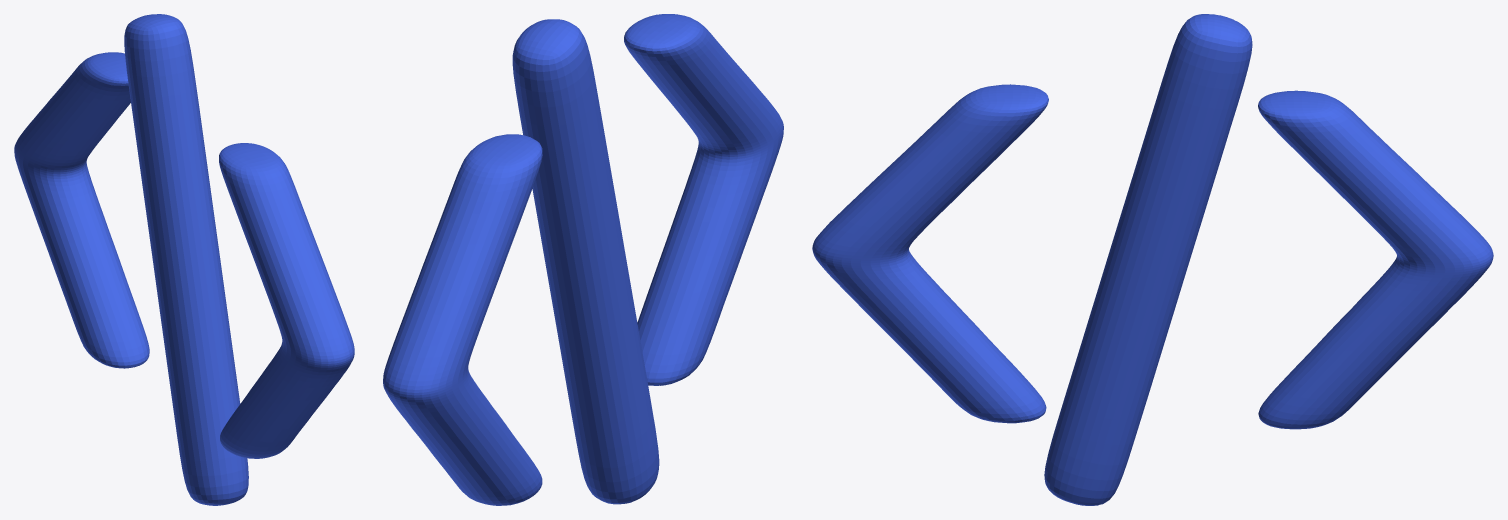
The model's file is coba-coba.glb.
The picture shows the model from 3 angles, left to right: view 1: azimuth 30°, elevation 25°; view 2: azimuth 150°, elevation 25°; view 3: azimuth 270°, elevation 25°; orthographic projection. The views are drawn at different scales.
Parts seen in each view (by area): view 1: Cube.012; view 2: Cube.012; view 3: Cube.012.
Part boxes in pixels (x1,y1,x2,y2): Cube.012: (14, 14, 354, 505); Cube.012: (383, 14, 783, 505); Cube.012: (812, 14, 1493, 505).
Bounding box in the file's own units: 1.2 × 9.26 × 11.85.
